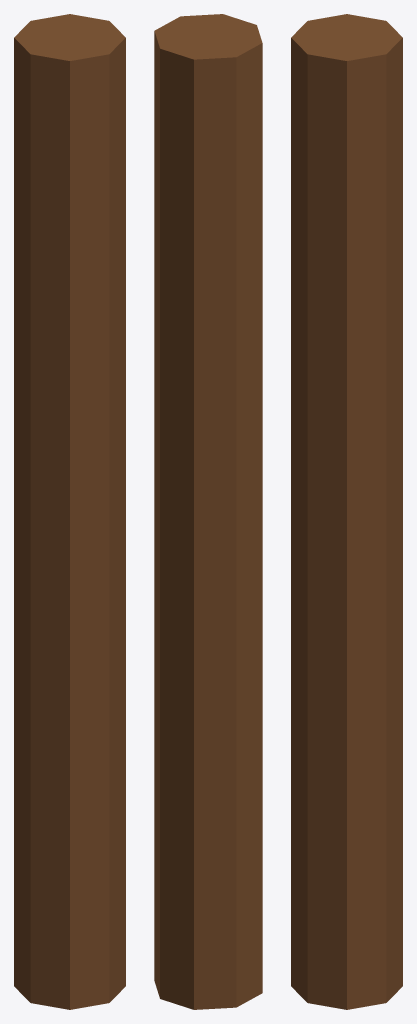
File: Axe-Handel-Basic.fbx
3 views of the same model, side by side, from view 1: azimuth 90°, elevation 25°; view 2: azimuth 210°, elevation 25°; view 3: azimuth 270°, elevation 25° (orthographic).
Parts seen in each view (by area): view 1: AxeHandle; view 2: AxeHandle; view 3: AxeHandle.
Part boxes in pixels (<box>): AxeHandle: <box>14,14,125,1009</box>; AxeHandle: <box>154,14,262,1009</box>; AxeHandle: <box>291,14,402,1009</box>.
Size of the model in its own units: 3.2 by 30 by 3.2.
